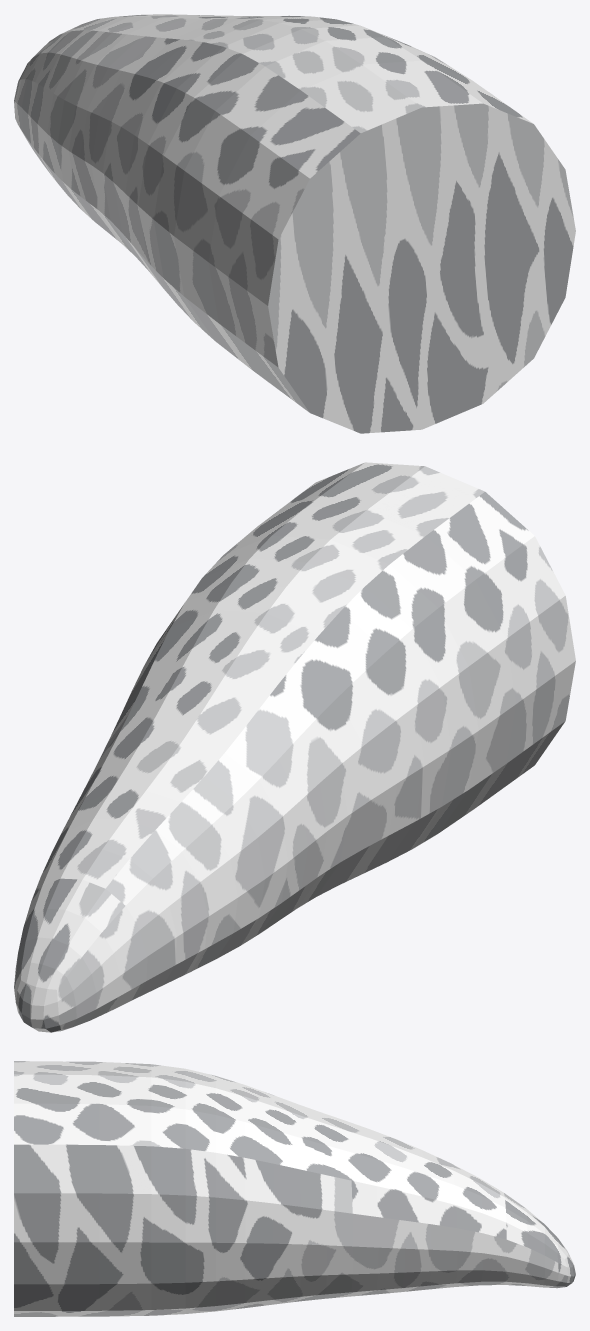
Rendered from snek_tail_texture.gltf.
3 views of the same model, one above another, from view 1: azimuth 30°, elevation 25°; view 2: azimuth 150°, elevation 25°; view 3: azimuth 270°, elevation 25° (orthographic). The views are drawn at different scales.
Visible parts, largest first — view 1: Cube.002; view 2: Cube.002; view 3: Cube.002.
Part boxes in pixels (x1,y1,x2,y2): Cube.002: (14,14,575,433); Cube.002: (14,462,575,1032); Cube.002: (14,1061,575,1316).
Size of the model in its own units: 4.67 by 4.67 by 10.37.
1 material, 1 textured.
